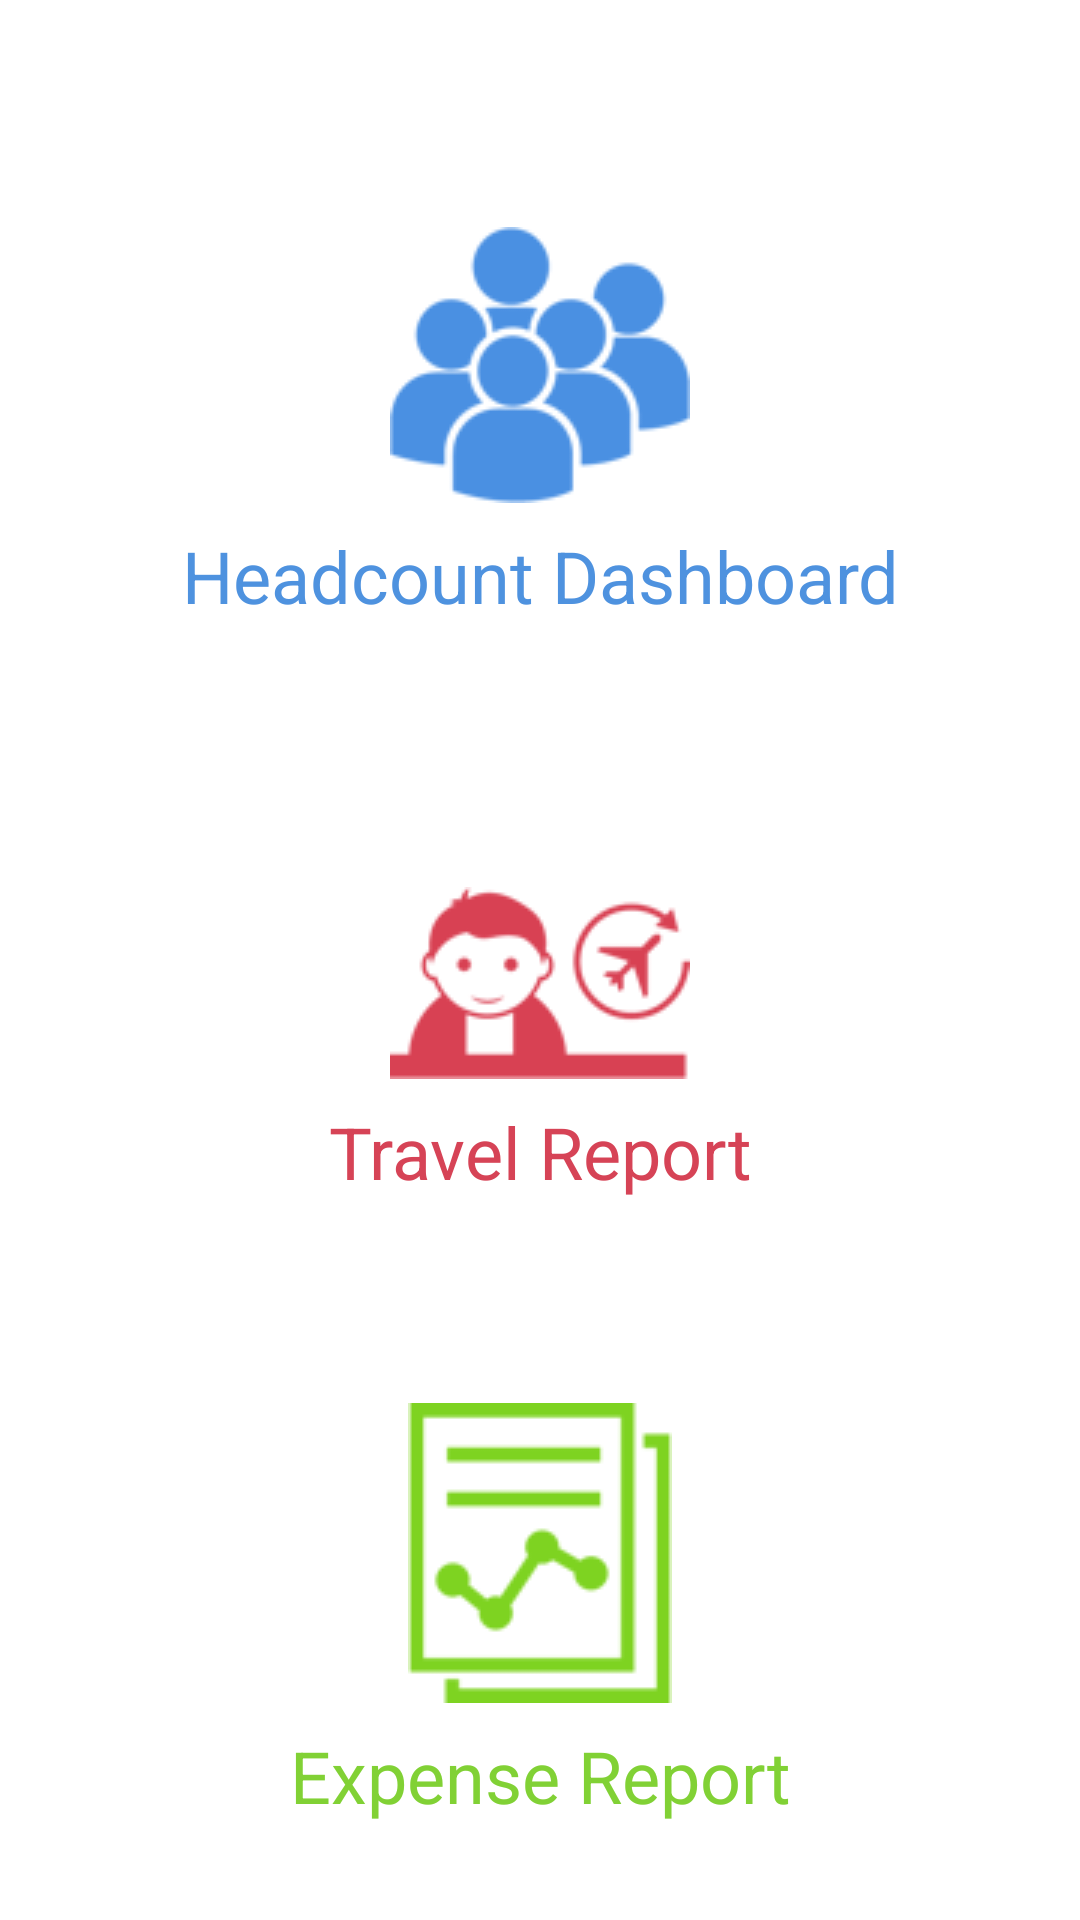

Icons on this 1080*1920 Android screen, each with the point to tap as [x,y]:
seo report: [540,1553]
users group: [540,365]
